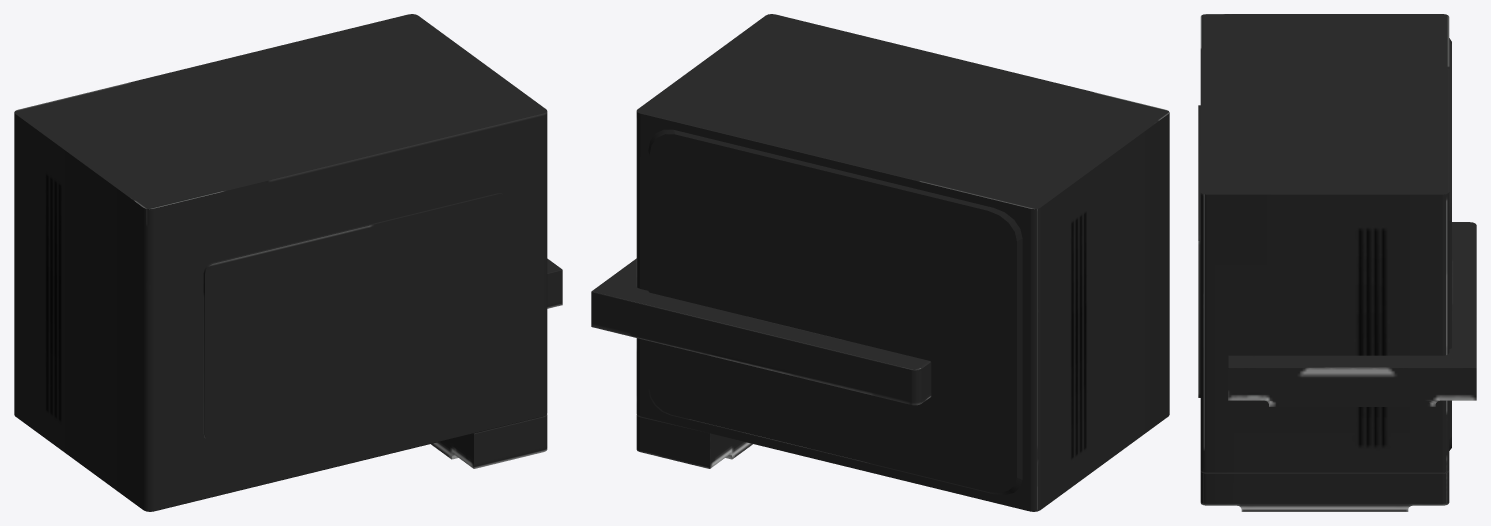
File: microwave-oven-3421e4.glb
The picture shows the model from 3 angles, left to right: view 1: azimuth 30°, elevation 25°; view 2: azimuth 150°, elevation 25°; view 3: azimuth 270°, elevation 25°; orthographic projection. The views are drawn at different scales.
Visible parts, largest first — view 1: PropMesh; view 2: PropMesh; view 3: PropMesh.
Boxes of the visible parts, x1,y1,x2,y2 form: PropMesh: (14,14,562,511); PropMesh: (591,14,1169,511); PropMesh: (1198,14,1476,511).
Size of the model in its own units: 0.5878 by 0.4506 by 0.3581.
Materials: 1 (1 with a texture image).
